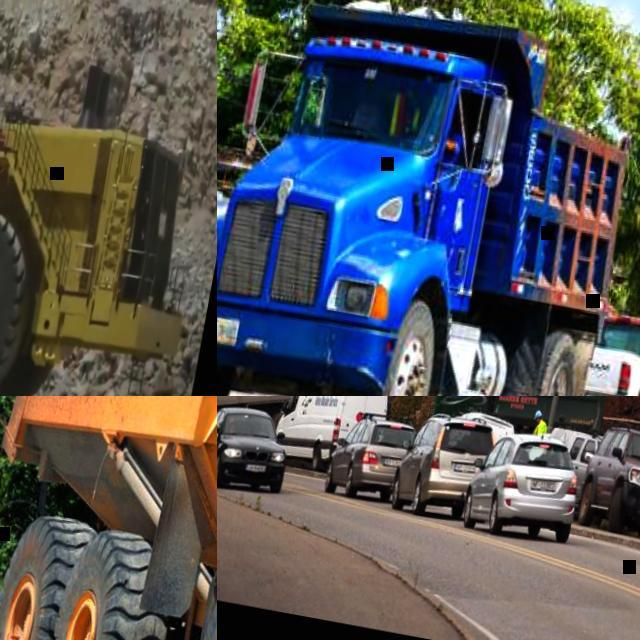helmet: (534, 409, 542, 419)
vest: (532, 418, 547, 436)
